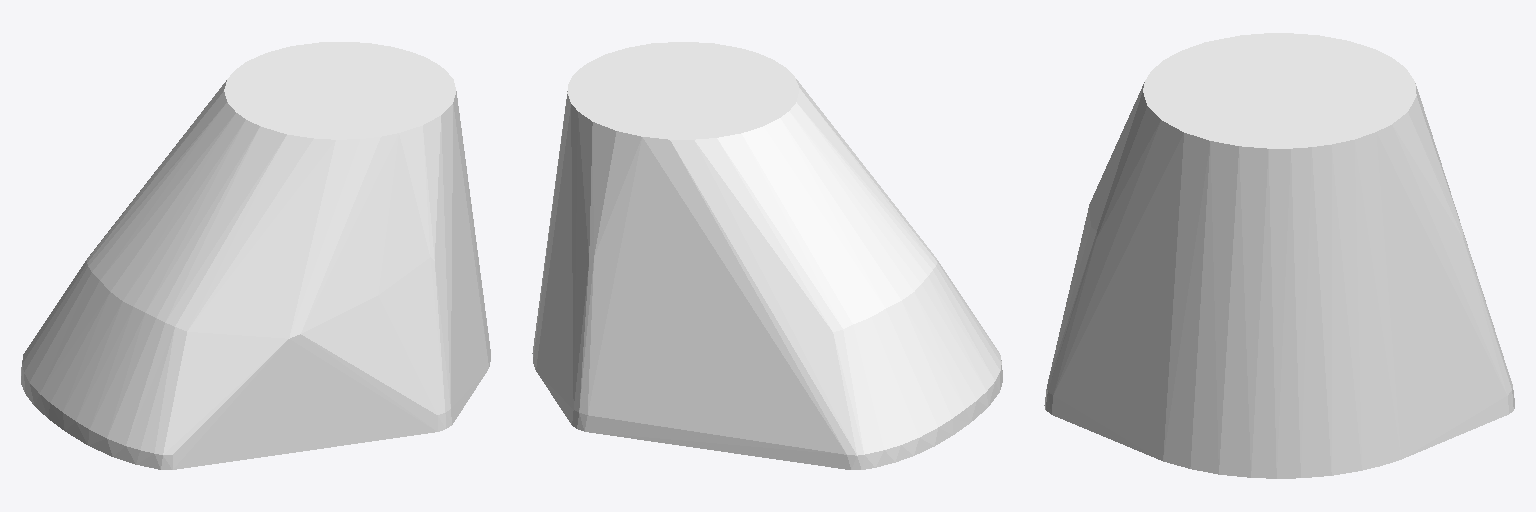
robot.urdf — panda:
<?xml version="1.0" ?>
<!-- =================================================================================== -->
<!-- |    This document was autogenerated by xacro from panda_arm_hand.urdf.xacro      | -->
<!-- |    EDITING THIS FILE BY HAND IS NOT RECOMMENDED                                 | -->
<!-- =================================================================================== -->
<robot name="panda" xmlns:xacro="http://www.ros.org/wiki/xacro">
  <link name="panda_link0">
  	<inertial>
      <origin rpy="0 0 0" xyz="0 0 0.05"/>
       <mass value="2.9"/>
       <inertia ixx="0.1" ixy="0" ixz="0" iyy="0.1" iyz="0" izz="0.1"/>
    </inertial>
    <visual>
      <geometry>
        <mesh filename="package://qp_dual/meshes/collision/link0.STL"/>
      </geometry>
      <material name="panda_white">
    		<color rgba="1. 1. 1. 1."/>
  		</material>
    </visual>
    <collision>
      <geometry>
        <mesh filename="package://qp_dual/meshes/collision/link0.STL"/>
      </geometry>
      <material name="panda_white"/>
    </collision>
  </link>
  <link name="panda_link1">
  	<inertial>
      <origin rpy="0 0 0" xyz="0 -0.04 -0.05"/>
       <mass value="2.7"/>
       <inertia ixx="0.1" ixy="0" ixz="0" iyy="0.1" iyz="0" izz="0.1"/>
    </inertial>
    <visual>
      <geometry>
        <mesh filename="package://qp_dual/meshes/collision/link1.STL"/>
      </geometry>
      <material name="panda_white"/>
    </visual>
    <collision>
      <geometry>
        <mesh filename="package://qp_dual/meshes/collision/link1.STL"/>
      </geometry>
      <material name="panda_white"/>
    </collision>
  </link>
  <joint name="panda_joint1" type="revolute">
    <safety_controller k_position="100.0" k_velocity="40.0" soft_lower_limit="-2.8973" soft_upper_limit="2.8973"/>
    <origin rpy="0 0 0" xyz="0 0 0.333"/>
    <parent link="panda_link0"/>
    <child link="panda_link1"/>
    <axis xyz="0 0 1"/>
    <limit effort="87" lower="-2.9671" upper="2.9671" velocity="2.1750"/>
  </joint>
  <link name="panda_link2">
  	<inertial>
      <origin rpy="0 0 0" xyz="0 -0.04 0.06"/>
       <mass value="2.73"/>
       <inertia ixx="0.1" ixy="0" ixz="0" iyy="0.1" iyz="0" izz="0.1"/>
    </inertial>
    <visual>
      <geometry>
        <mesh filename="package://qp_dual/meshes/collision/link2.STL"/>
      </geometry>
      <material name="panda_white"/>
    </visual>
    <collision>
      <geometry>
        <mesh filename="package://qp_dual/meshes/collision/link2.STL"/>
      </geometry>
      <material name="panda_white"/>
    </collision>
  </link>
  <joint name="panda_joint2" type="revolute">
    <safety_controller k_position="100.0" k_velocity="40.0" soft_lower_limit="-1.7628" soft_upper_limit="1.7628"/>
    <origin rpy="-1.57079632679 0 0" xyz="0 0 0"/>
    <parent link="panda_link1"/>
    <child link="panda_link2"/>
    <axis xyz="0 0 1"/>
    <limit effort="87" lower="-1.8326" upper="1.8326" velocity="2.1750"/>
  </joint>
  <link name="panda_link3">
	  <inertial>
      <origin rpy="0 0 0" xyz="0.01 0.01 -0.05"/>
       <mass value="2.04"/>
       <inertia ixx="0.1" ixy="0" ixz="0" iyy="0.1" iyz="0" izz="0.1"/>
    </inertial>
    <visual>
      <geometry>
        <mesh filename="package://qp_dual/meshes/collision/link3.stl"/>
      </geometry>
      <material name="panda_red">
    		<color rgba="1. 1. 1. 1."/>
  		</material>
    </visual>
    <collision>
      <geometry>
        <mesh filename="package://qp_dual/meshes/collision/link3.stl"/>
      </geometry>
    </collision>
  </link>
  <joint name="panda_joint3" type="revolute">
    <safety_controller k_position="100.0" k_velocity="40.0" soft_lower_limit="-2.8973" soft_upper_limit="2.8973"/>
    <origin rpy="1.57079632679 0 0" xyz="0 -0.316 0"/>
    <parent link="panda_link2"/>
    <child link="panda_link3"/>
    <axis xyz="0 0 1"/>
    <limit effort="87" lower="-2.9671" upper="2.9671" velocity="2.1750"/>
  </joint>
  <link name="panda_link4">
  	<inertial>
      <origin rpy="0 0 0" xyz="-0.03 0.03 0.02"/>
       <mass value="2.08"/>
       <inertia ixx="0.1" ixy="0" ixz="0" iyy="0.1" iyz="0" izz="0.1"/>
    </inertial>
    <visual>
      <geometry>
        <mesh filename="package://qp_dual/meshes/collision/link4.stl"/>
      </geometry>
      <material name="panda_white"/>
    </visual>
    <collision>
      <geometry>
        <mesh filename="package://qp_dual/meshes/collision/link4.stl"/>
      </geometry>
      <material name="panda_white"/>
    </collision>
  </link>
  <joint name="panda_joint4" type="revolute">
    <safety_controller k_position="100.0" k_velocity="40.0" soft_lower_limit="-3.0718" soft_upper_limit="-0.0698"/>
    <origin rpy="1.57079632679 0 0" xyz="0.0825 0 0"/>
    <parent link="panda_link3"/>
    <child link="panda_link4"/>
    <axis xyz="0 0 1"/>
    <limit effort="87" lower="-3.1416" upper="0.0" velocity="2.1750"/>
  </joint>
  <link name="panda_link5">
  	<inertial>
      <origin rpy="0 0 0" xyz="0 0.04 -0.12"/>
       <mass value="3"/>
       <inertia ixx="0.1" ixy="0" ixz="0" iyy="0.1" iyz="0" izz="0.1"/>
    </inertial>
    <visual>
      <geometry>
        <mesh filename="package://qp_dual/meshes/collision/link5.stl"/>
      </geometry>
      <material name="panda_white"/>
    </visual>
    <collision>
      <geometry>
        <mesh filename="package://qp_dual/meshes/collision/link5.stl"/>
      </geometry>
      <material name="panda_white"/>
    </collision>
  </link>
  <joint name="panda_joint5" type="revolute">
    <safety_controller k_position="100.0" k_velocity="40.0" soft_lower_limit="-2.8973" soft_upper_limit="2.8973"/>
    <origin rpy="-1.57079632679 0 0" xyz="-0.0825 0.384 0"/>
    <parent link="panda_link4"/>
    <child link="panda_link5"/>
    <axis xyz="0 0 1"/>
    <limit effort="12" lower="-2.9671" upper="2.9671" velocity="2.6100"/>
  </joint>
  <link name="panda_link6">
  	<inertial>
      <origin rpy="0 0 0" xyz="0.04 0 0"/>
       <mass value="1.3"/>
       <inertia ixx="0.1" ixy="0" ixz="0" iyy="0.1" iyz="0" izz="0.1"/>
    </inertial>
    <visual>
      <geometry>
        <mesh filename="package://qp_dual/meshes/collision/link6.stl"/>
      </geometry>
      <material name="panda_white"/>
    </visual>
    <collision>
      <geometry>
        <mesh filename="package://qp_dual/meshes/collision/link6.stl"/>
      </geometry>
      <material name="panda_white"/>
    </collision>
  </link>
  <joint name="panda_joint6" type="revolute">
    <safety_controller k_position="100.0" k_velocity="40.0" soft_lower_limit="-0.0175" soft_upper_limit="3.7525"/>
    <origin rpy="1.57079632679 0 0" xyz="0 0 0"/>
    <parent link="panda_link5"/>
    <child link="panda_link6"/>
    <axis xyz="0 0 1"/>
    <limit effort="12" lower="-0.0873" upper="3.8223" velocity="2.6100"/>
  </joint>
  <link name="panda_link7">
  	<inertial>
      <origin rpy="0 0 0" xyz="0 0 0.08"/>
       <mass value=".2"/>
       <inertia ixx="0.1" ixy="0" ixz="0" iyy="0.1" iyz="0" izz="0.1"/>
    </inertial>
    <visual>
      <geometry>
        <mesh filename="package://qp_dual/meshes/collision/link7.stl"/>
      </geometry>
      <material name="panda_white"/>
    </visual>
    <collision>
      <geometry>
        <mesh filename="package://qp_dual/meshes/collision/link7.stl"/>
      </geometry>
      <material name="panda_white"/>
    </collision>
  </link>
  <joint name="panda_joint7" type="revolute">
    <safety_controller k_position="100.0" k_velocity="40.0" soft_lower_limit="-2.8973" soft_upper_limit="2.8973"/>
    <origin rpy="1.57079632679 0 0" xyz="0.088 0 0"/>
    <parent link="panda_link6"/>
    <child link="panda_link7"/>
    <axis xyz="0 0 1"/>
    <limit effort="12" lower="-2.9671" upper="2.9671" velocity="2.6100"/>
  </joint>
  <link name="panda_link8">
  	 <inertial>
      <origin rpy="0 0 0" xyz="0 0 0"/>
       <mass value="0.0"/>
       <inertia ixx="0.1" ixy="0" ixz="0" iyy="0.1" iyz="0" izz="0.1"/>
    </inertial>
  </link>
  <joint name="panda_joint8" type="fixed">
    <origin rpy="0 0 0" xyz="0 0 0.107"/>
    <parent link="panda_link7"/>
    <child link="panda_link8"/>
    <axis xyz="0 0 0"/>
  </joint>
  <joint name="panda_hand_joint" type="fixed">
    <parent link="panda_link8"/>
    <child link="panda_hand"/>
    <origin rpy="0 0 -0.785398163397" xyz="0 0 0"/>
  </joint>
  <link name="panda_hand">
  	<inertial>
      <origin rpy="0 0 0" xyz="0 0 0.04"/>
       <mass value=".81"/>
       <inertia ixx="0.1" ixy="0" ixz="0" iyy="0.1" iyz="0" izz="0.1"/>
    </inertial>
    <visual>
      <geometry>
        <mesh filename="package://qp_dual/meshes/collision/hand.stl"/>
      </geometry>
      <material name="panda_white"/>
    </visual>
    <collision>
      <geometry>
        <mesh filename="package://qp_dual/meshes/collision/hand.stl"/>
      </geometry>
      <material name="panda_white"/>
    </collision>
  </link>
  <link name="panda_leftfinger">
       <contact>
      <friction_anchor/>
      <stiffness value="30000.0"/>
      <damping value="1000.0"/>
      <spinning_friction value="0.1"/>
      <lateral_friction value="1.0"/>
    </contact>
  	<inertial>
      <origin rpy="0 0 0" xyz="0 0.01 0.02"/>
       <mass value="0.1"/>
       <inertia ixx="0.1" ixy="0" ixz="0" iyy="0.1" iyz="0" izz="0.1"/>
    </inertial>
    <visual>
      <geometry>
        <mesh filename="package://qp_dual/meshes/collision/finger.stl"/>
      </geometry>
      <material name="panda_white"/>
    </visual>
    <collision>
      <geometry>
        <mesh filename="package://qp_dual/meshes/collision/finger.stl"/>
      </geometry>
      <material name="panda_white"/>
    </collision>
  </link>
  <link name="panda_rightfinger">
        <contact>
      <friction_anchor/>
      <stiffness value="30000.0"/>
      <damping value="1000.0"/>
      <spinning_friction value="0.1"/>
      <lateral_friction value="1.0"/>
    </contact>

  	<inertial>
      <origin rpy="0 0 0" xyz="0 -0.01 0.02"/>
       <mass value="0.1"/>
       <inertia ixx="0.1" ixy="0" ixz="0" iyy="0.1" iyz="0" izz="0.1"/>
    </inertial>
    <visual>
      <origin rpy="0 0 3.14159265359" xyz="0 0 0"/>
      <geometry>
        <mesh filename="package://qp_dual/meshes/collision/finger.stl"/>
      </geometry>
      <material name="panda_white"/>
    </visual>
    <collision>
      <origin rpy="0 0 3.14159265359" xyz="0 0 0"/>
      <geometry>
        <mesh filename="package://qp_dual/meshes/collision/finger.stl"/>
      </geometry>
      <material name="panda_white"/>
    </collision>
  </link>
  <joint name="panda_finger_joint1" type="prismatic">
    <parent link="panda_hand"/>
    <child link="panda_leftfinger"/>
    <origin rpy="0 0 0" xyz="0 0 0.0584"/>
    <axis xyz="0 1 0"/>
    <limit effort="20" lower="0.0" upper="0.04" velocity="0.2"/>
  </joint>
  <joint name="panda_finger_joint2" type="prismatic">
    <parent link="panda_hand"/>
    <child link="panda_rightfinger"/>
    <origin rpy="0 0 0" xyz="0 0 0.0584"/>
    <axis xyz="0 -1 0"/>
    <limit effort="20" lower="0.0" upper="0.04" velocity="0.2"/>
    <mimic joint="panda_finger_joint1"/>
  </joint>
   <link name="panda_grasptarget">
 <inertial>
      <origin rpy="0 0 0" xyz="0 0 0"/>
       <mass value="0.0"/>
       <inertia ixx="0.1" ixy="0" ixz="0" iyy="0.1" iyz="0" izz="0.1"/>
    </inertial>
   </link>
   <joint name="panda_grasptarget_hand" type="fixed">
    <parent link="panda_hand"/>
    <child link="panda_grasptarget"/>
    <origin rpy="0 0 0" xyz="0 0 0.105"/>
  </joint>
  
</robot>

--- Render facts (derived) ---
The picture shows the robot from 3 angles, left to right: view 1: azimuth 30°, elevation 25°; view 2: azimuth 150°, elevation 25°; view 3: azimuth 270°, elevation 25°; orthographic projection.
Model panda with 13 links and 12 joints (7 revolute, 2 prismatic, 3 fixed), rooted at panda_link0, posed all joints at 0.
Visible links, largest first — view 1: panda_link0; view 2: panda_link0; view 3: panda_link0.
Boxes of the visible links, left/top/right/bottom form: panda_link0: left=21, top=42, right=490, bottom=469; panda_link0: left=532, top=42, right=1002, bottom=469; panda_link0: left=1044, top=33, right=1514, bottom=478.
Bounding box of the posed robot: 0.2256 × 0.1893 × 0.14 m (x, y, z).
1 mesh visuals loaded from 10 distinct referenced files (1 binary STL); not drawn: 10 (reference not matched to a file when rendering).